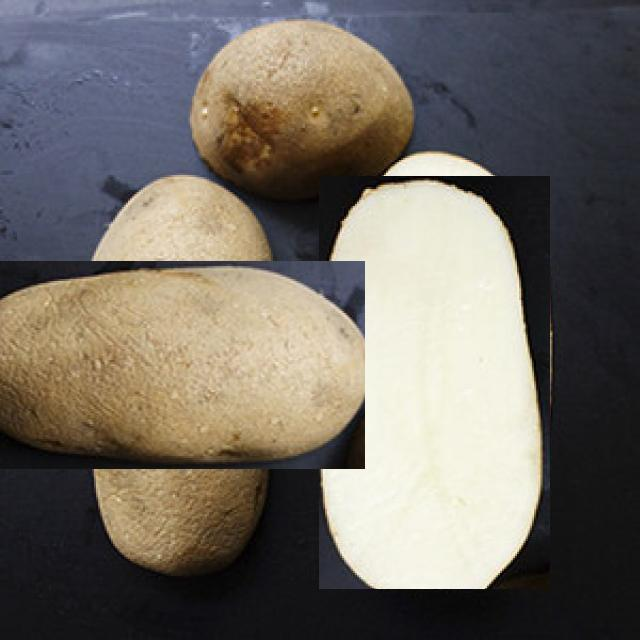potato: (318, 175, 550, 589), (35, 220, 325, 510)
